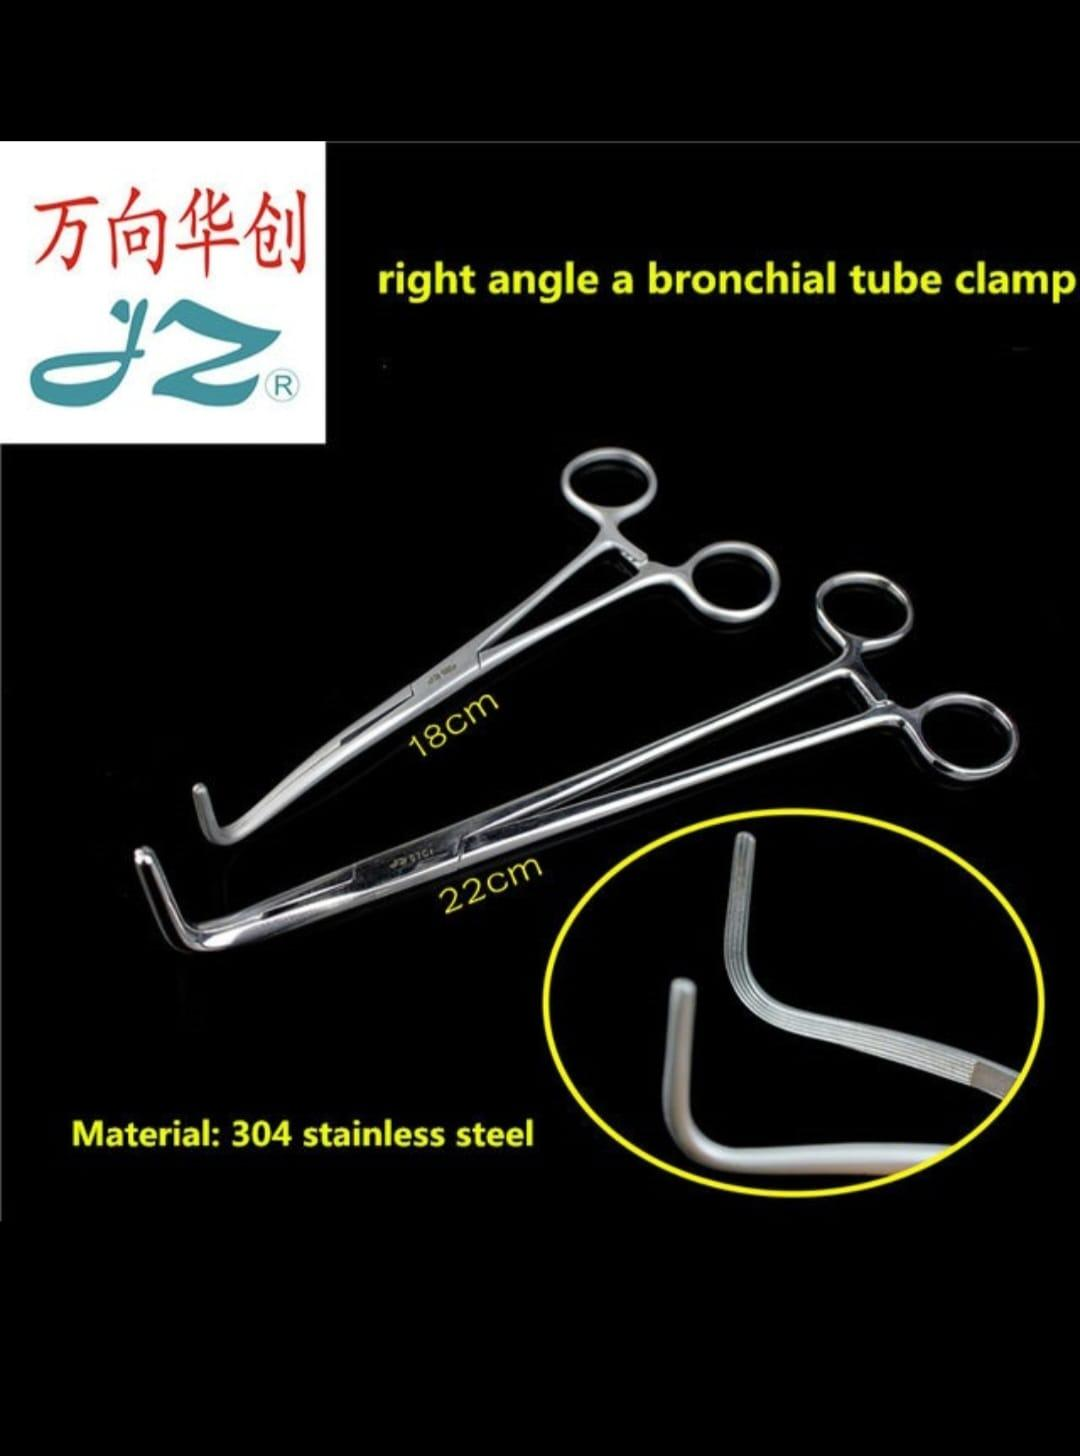Rectangle Cholecystectomy Forceps: (127, 560, 1020, 982), (183, 430, 798, 847)
